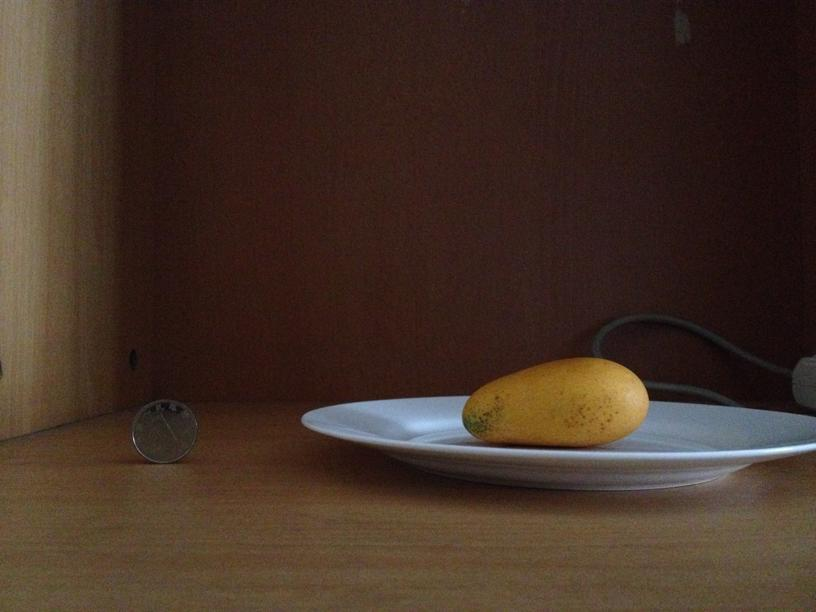coin: (125, 395, 203, 460)
mango: (462, 355, 650, 446)
